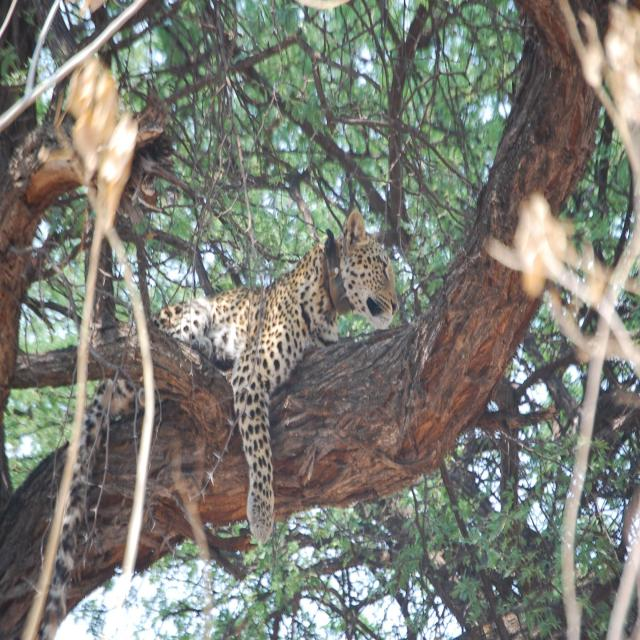Leopard: (0, 221, 414, 640)
